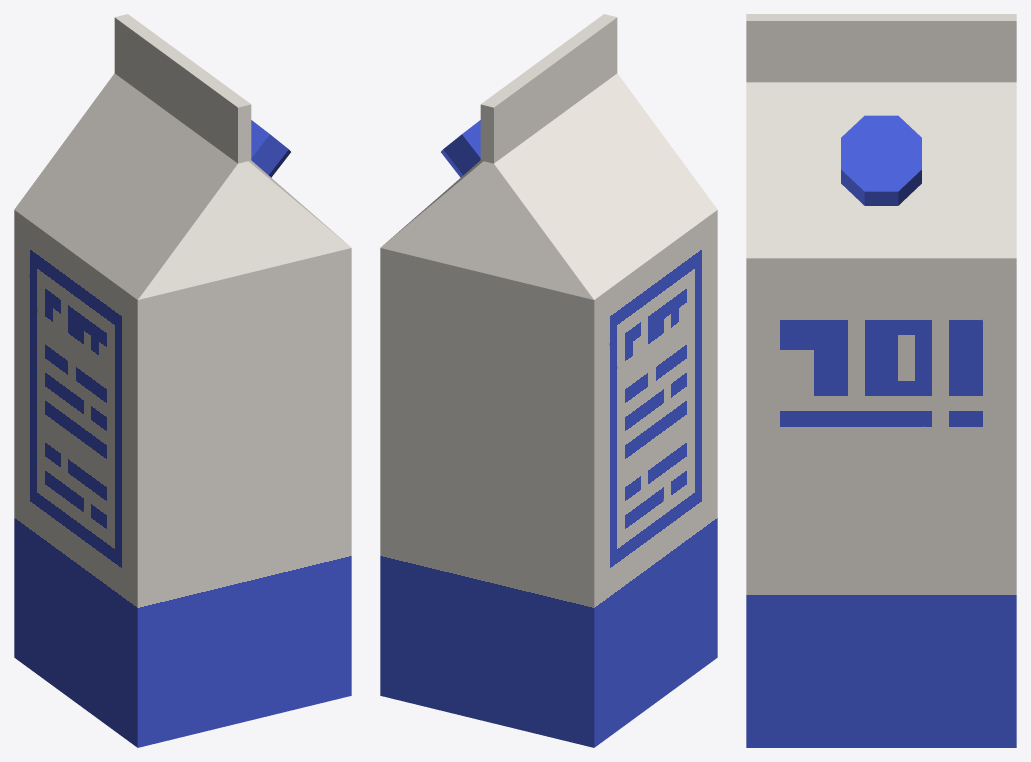
File: cartonV2.1.gltf
3 renders of one model, left to right at view 1: azimuth 30°, elevation 25°; view 2: azimuth 150°, elevation 25°; view 3: azimuth 270°, elevation 25°, orthographic. The views are drawn at different scales.
Parts seen in each view (by area): view 1: cube; view 2: cube; view 3: cube.
Boxes of the visible parts, x1,y1,x2,y2 form: cube: (14, 14, 351, 747); cube: (380, 14, 717, 747); cube: (746, 14, 1016, 747).
Bounding box in the file's own units: 0.25 × 0.6875 × 0.25.
1 material, 1 textured.
